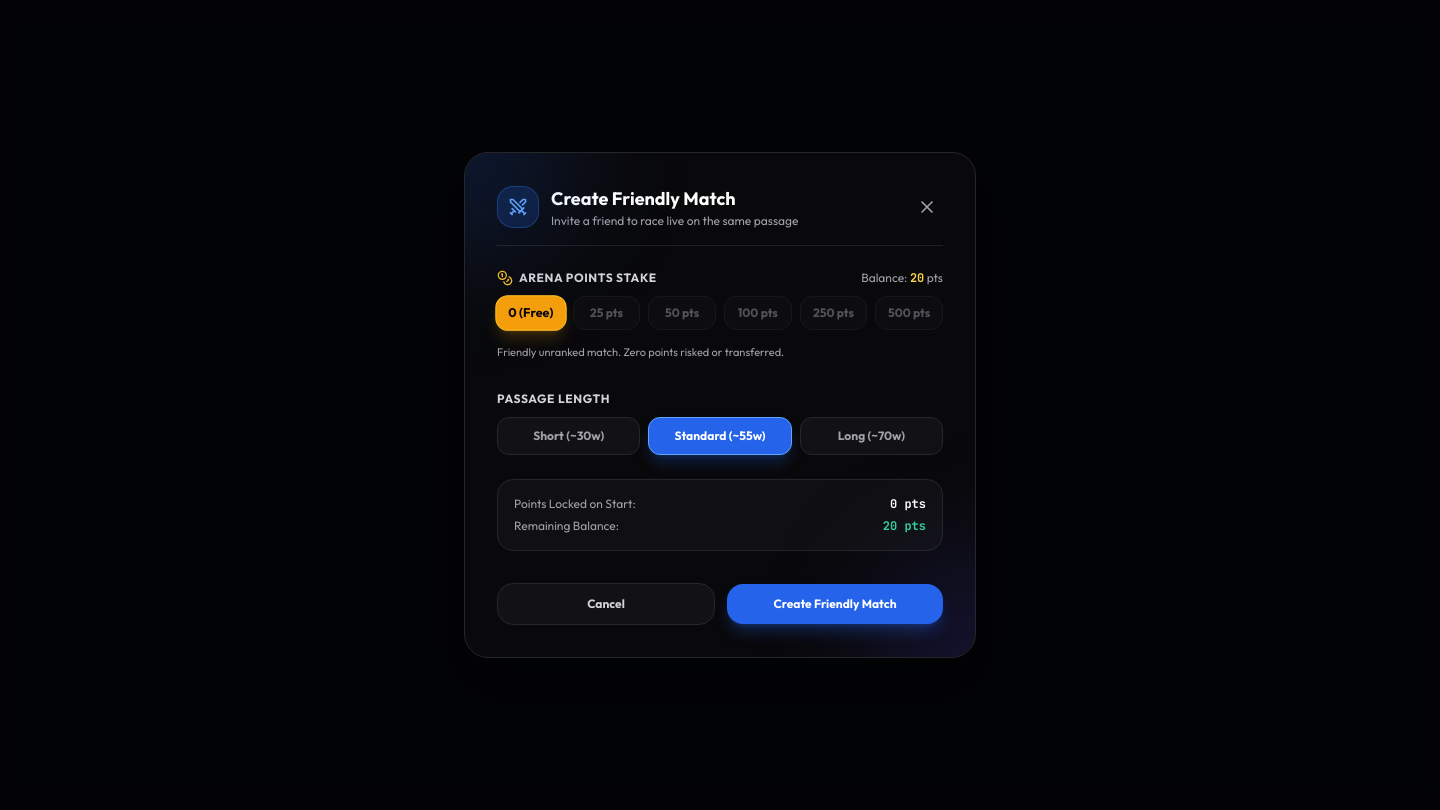
Test: Frontend Arena Components & UX › CreateMatchModal › disables submit when chosen stake exceeds user balance
Expected: the heading "Create Friendly Match" is shown, left=551, top=187, right=736, bottom=210
// Click 50 pts stake preset
Click the button "50 pts" at (682, 313), box left=648, top=296, right=716, bottom=330
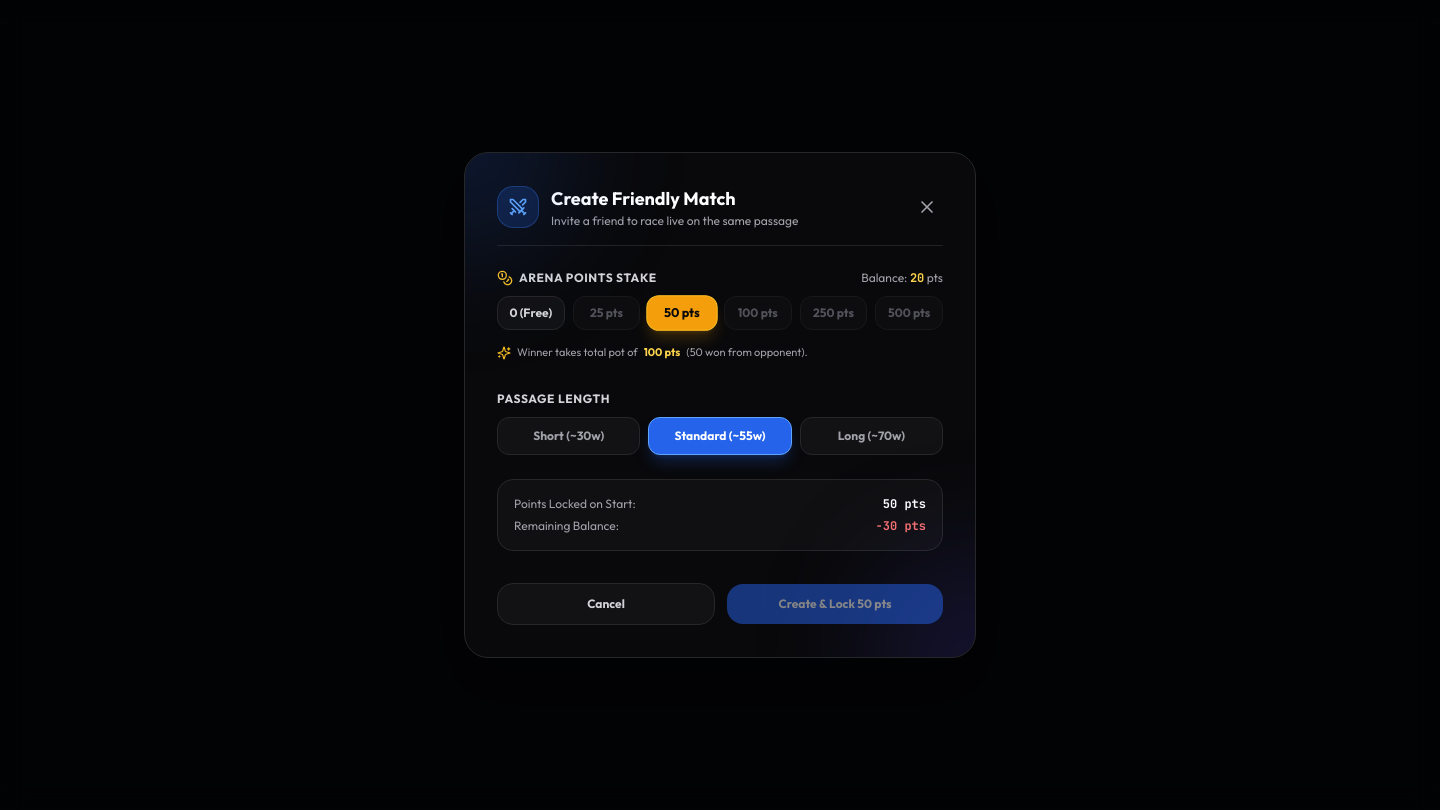
Expected: the button "Create & Lock 50 pts" is disabled, left=727, top=584, right=943, bottom=624
